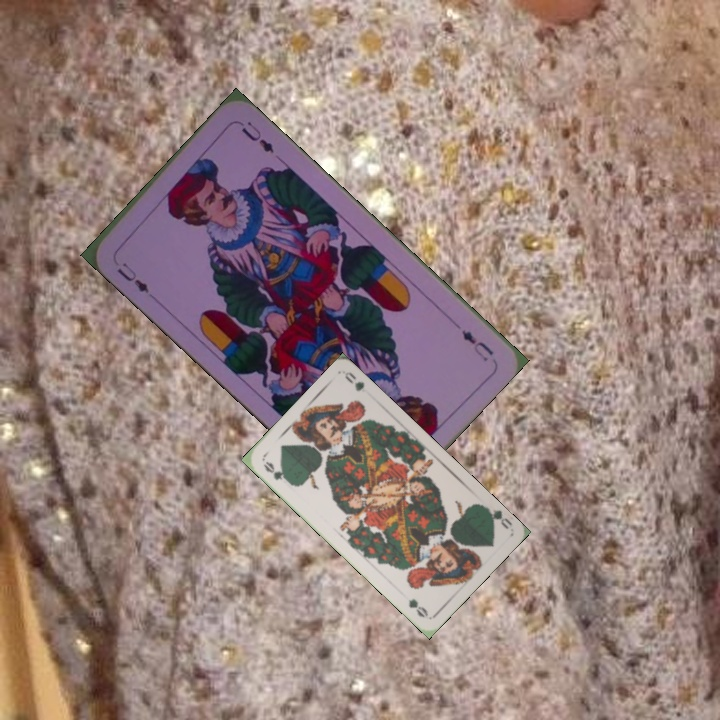EU: (112, 258, 152, 297), (457, 325, 496, 364)
GO: (478, 501, 515, 532), (259, 457, 293, 487)
